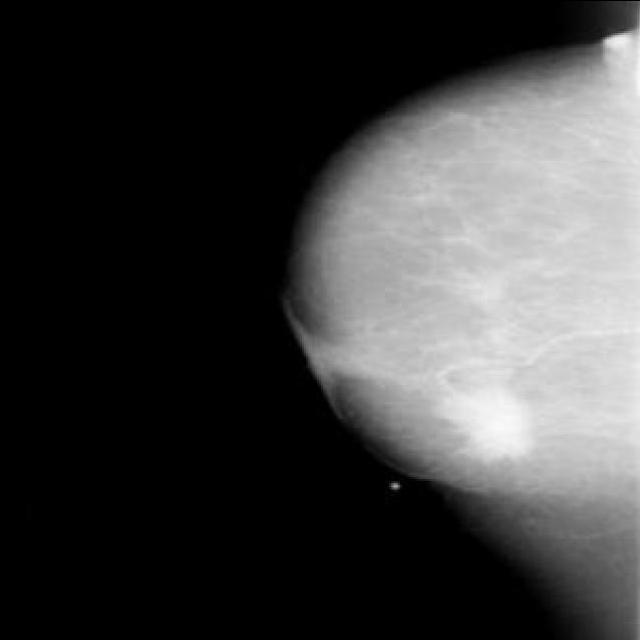tumor: (424, 366, 545, 468)
